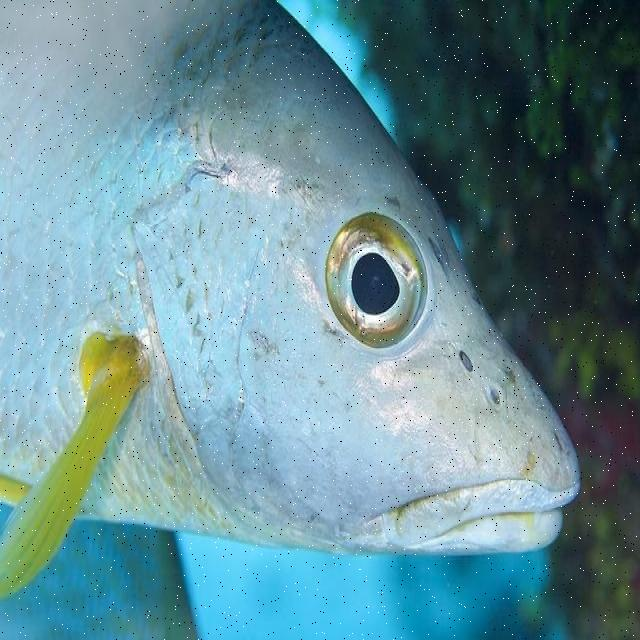fish: (0, 0, 580, 600)
